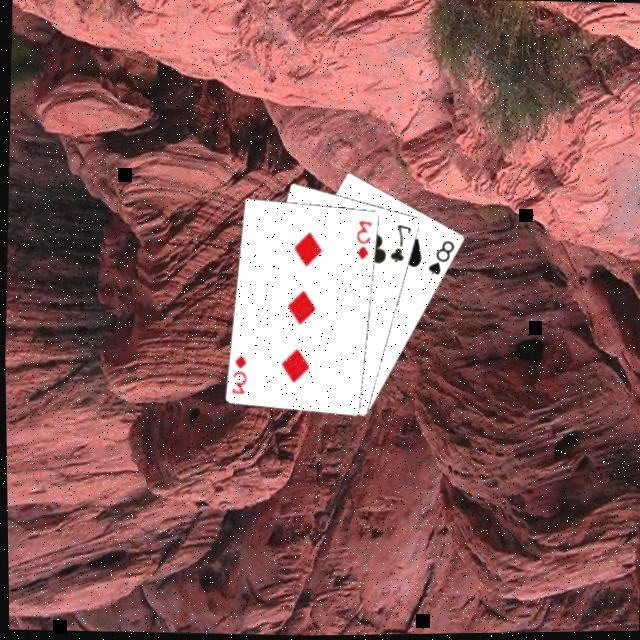3D: (225, 352, 248, 399), (350, 219, 372, 264)
7C: (383, 222, 412, 268)
8S: (422, 238, 454, 280)
